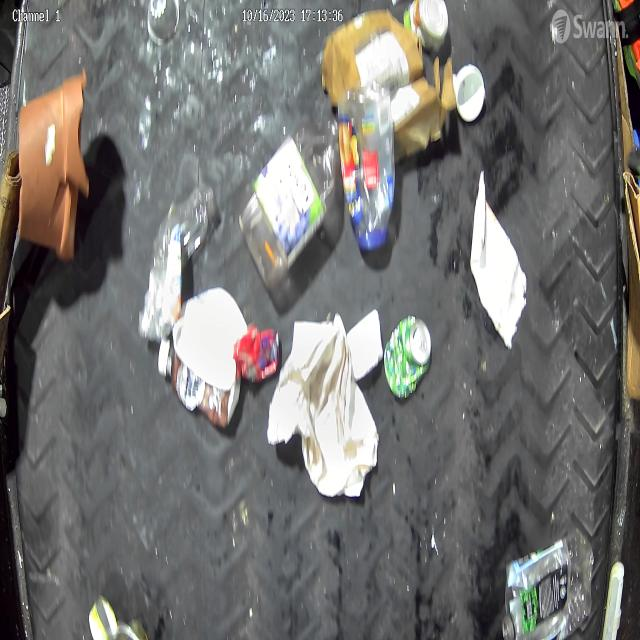can: (384, 312, 432, 401), (402, 0, 453, 53)
plastic_bottle: (239, 119, 341, 289), (136, 179, 218, 344), (501, 524, 596, 640), (339, 80, 396, 252)
